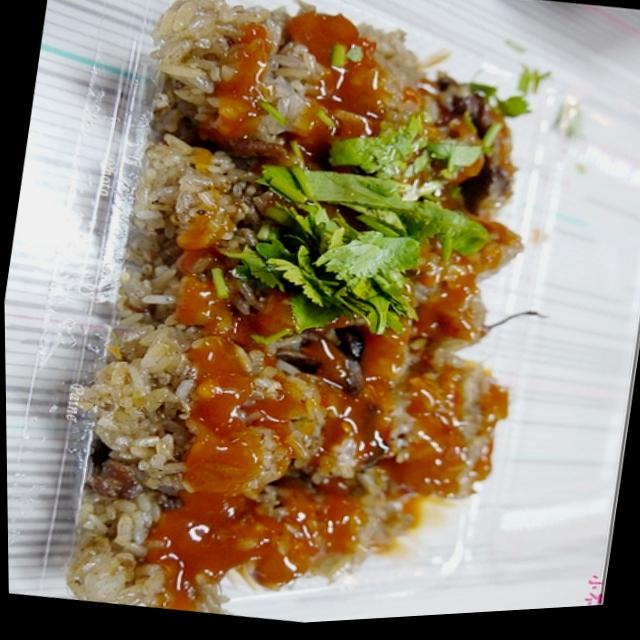米饭主食: (29, 0, 586, 639)
